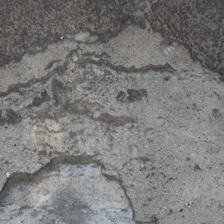Crack: (14, 0, 125, 84), (36, 40, 107, 91)
